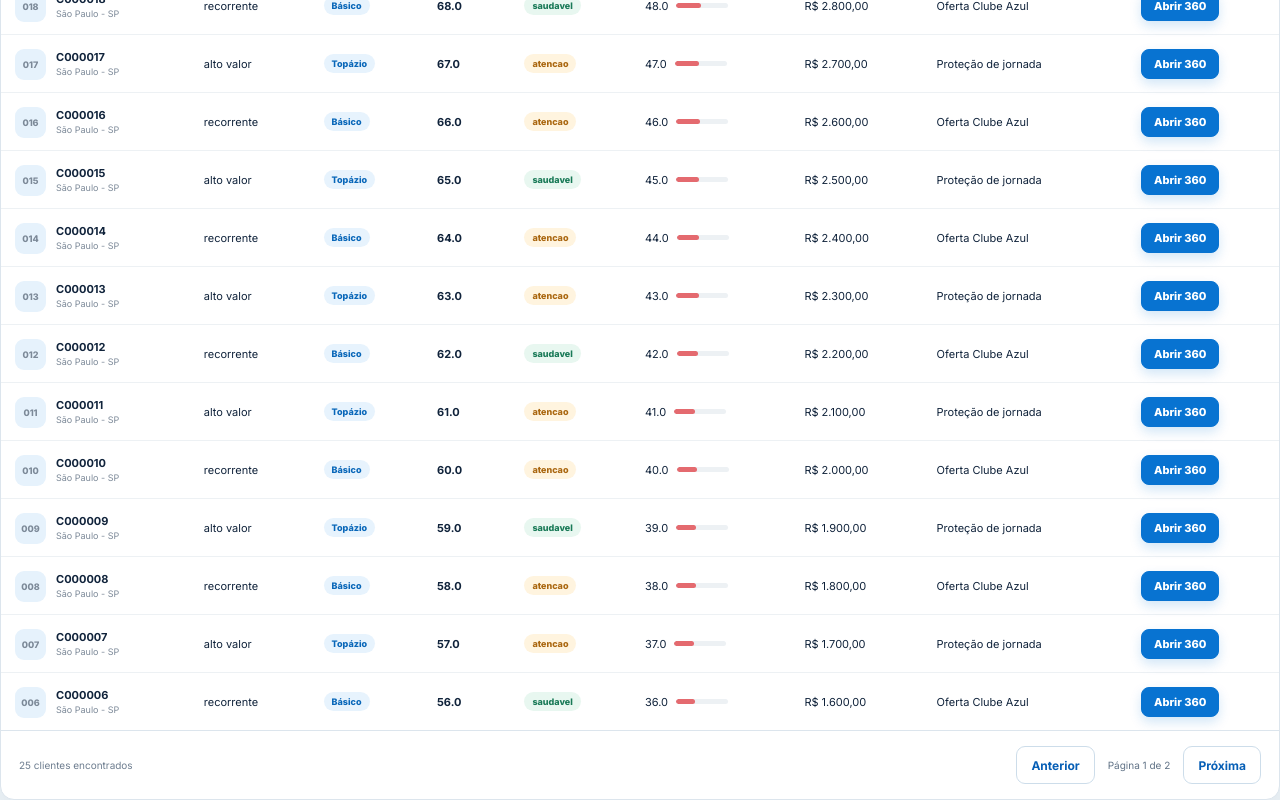
Test: explorador de clientes › filtra por busca, volta à primeira página e preserva o link do perfil
(page scrolled)
Click the button "Próxima".
click(1222, 765)  # box [1183,746,1261,784]
(page scrolled)
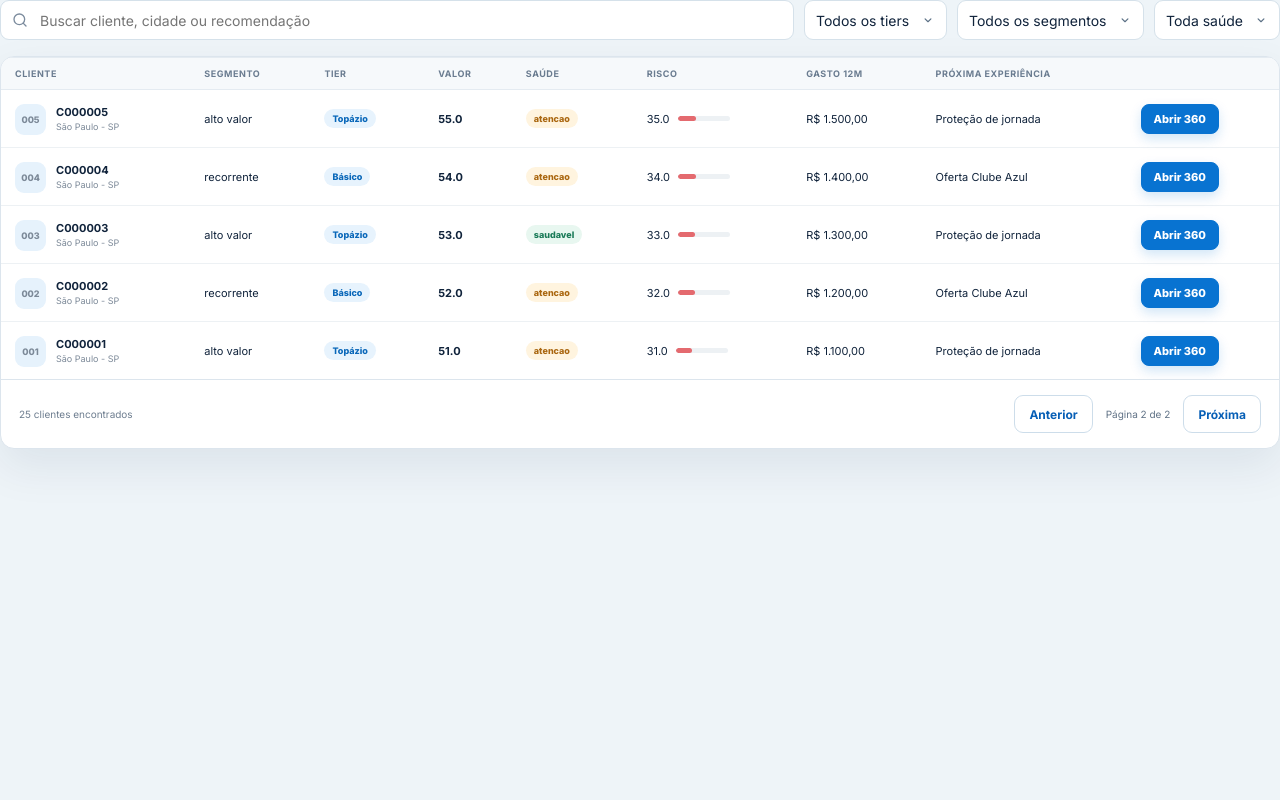
Type "Recife" into the field with placeholder "Buscar cliente, cidade ou recomendação".
click(397, 20); type("Recife")  # box [0,0,794,40]
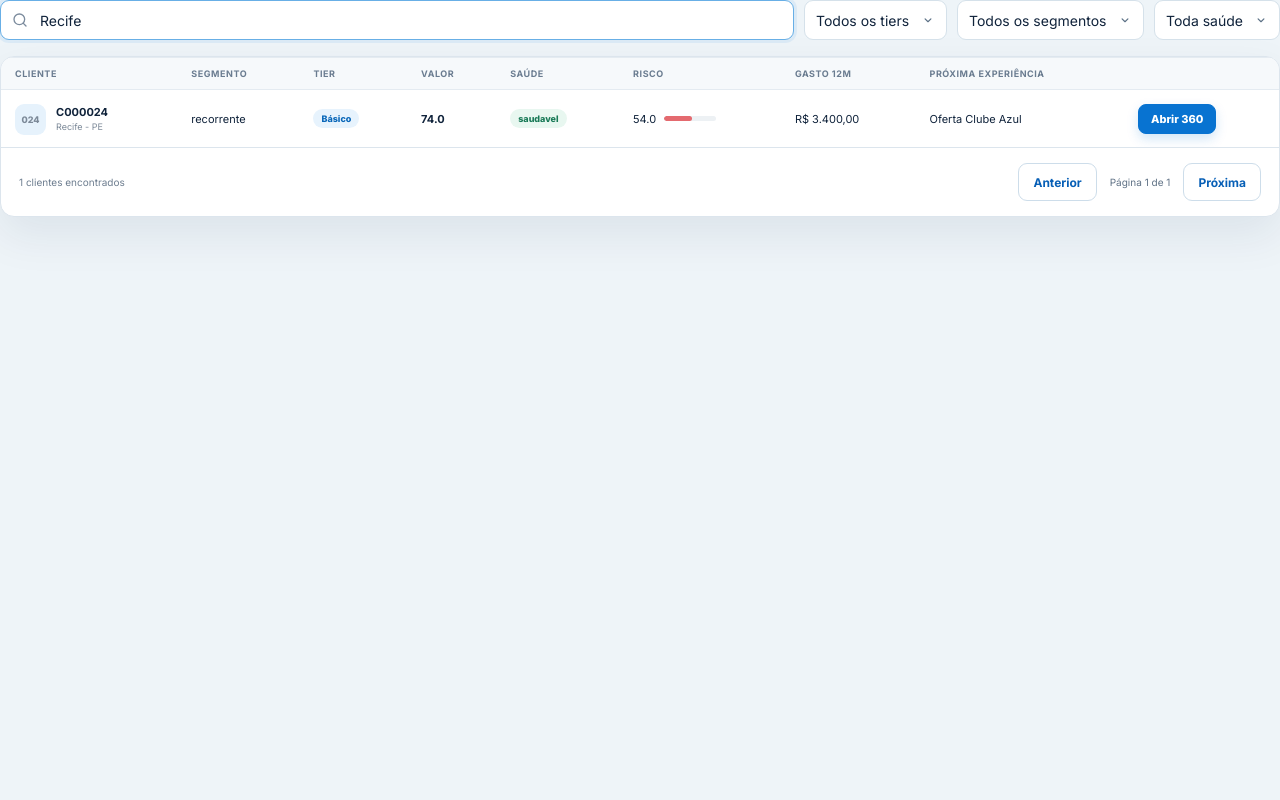
Expected: the text "1 clientes encontrados" is shown, [19,176,125,188]
Expected: the text "Página 1 de 1" is shown, [1110,176,1170,188]
Expected: the text "Recife - PE" is shown, [56,121,108,132]
